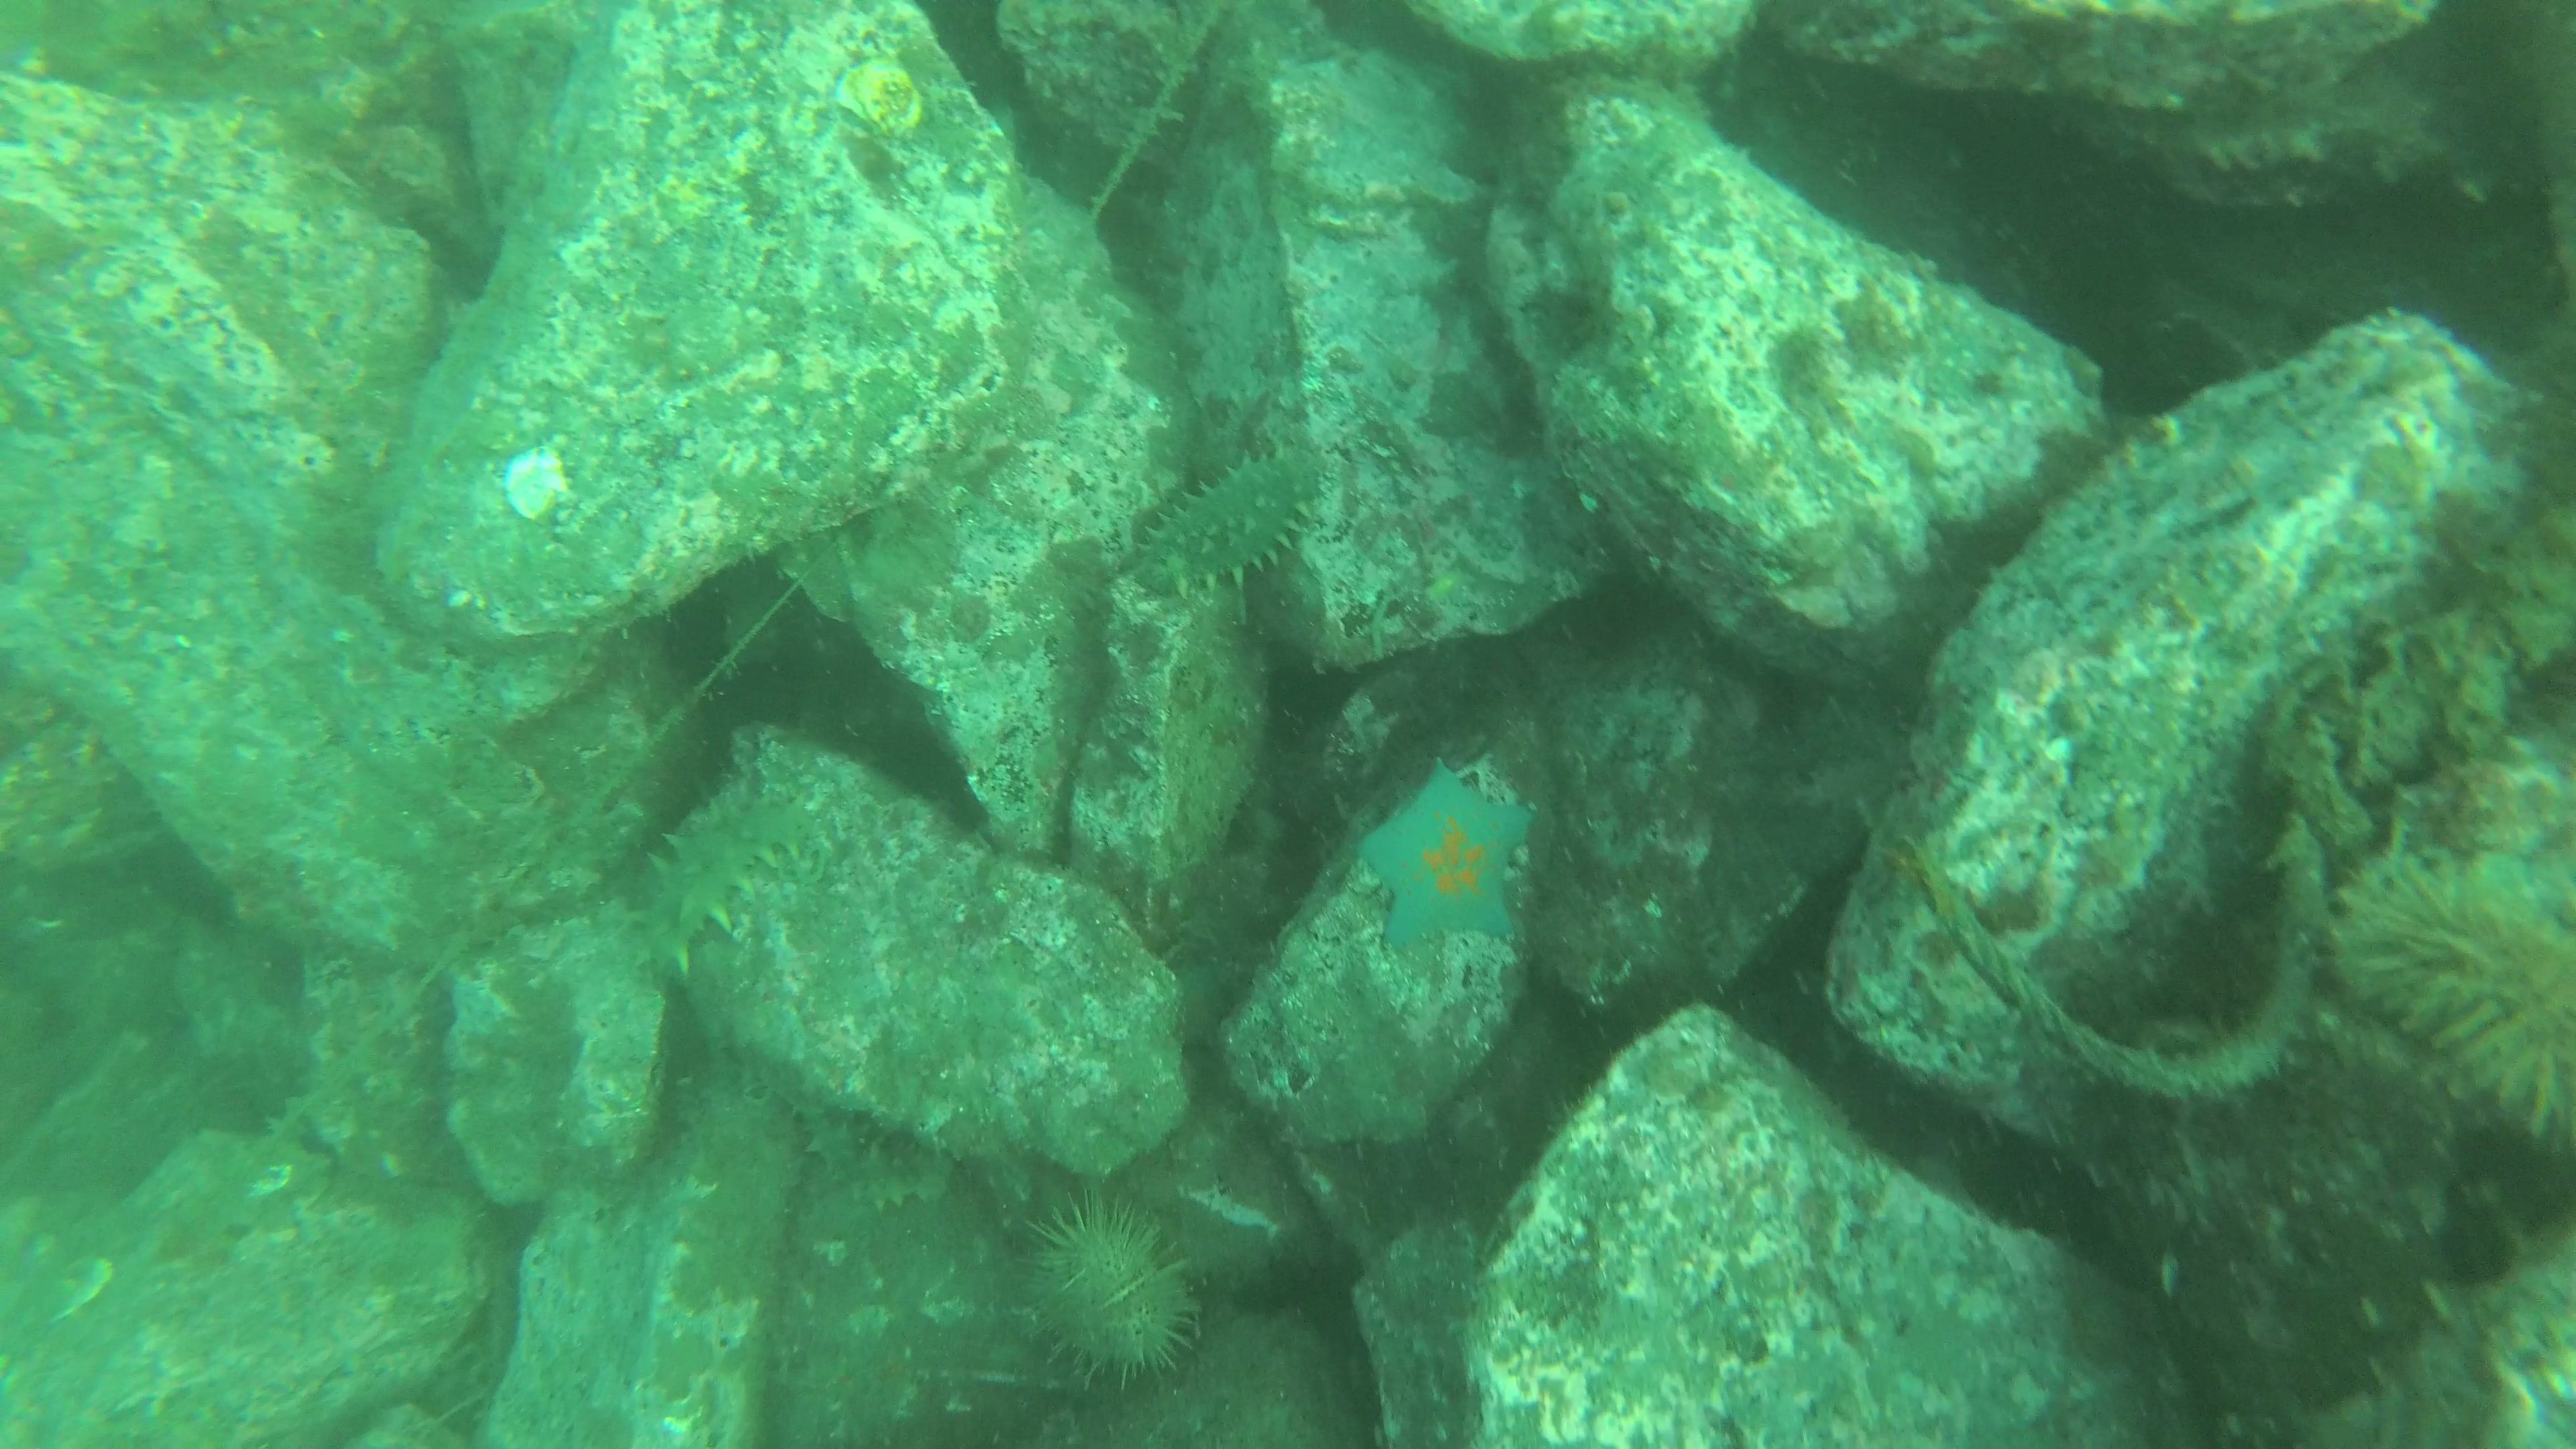echinus: (2344, 844, 2576, 1150), (996, 1200, 1212, 1407)
holothurian: (621, 763, 805, 978), (1123, 432, 1343, 607), (787, 1093, 938, 1215)
scallop: (833, 51, 929, 145)
starfish: (1350, 763, 1539, 975)
